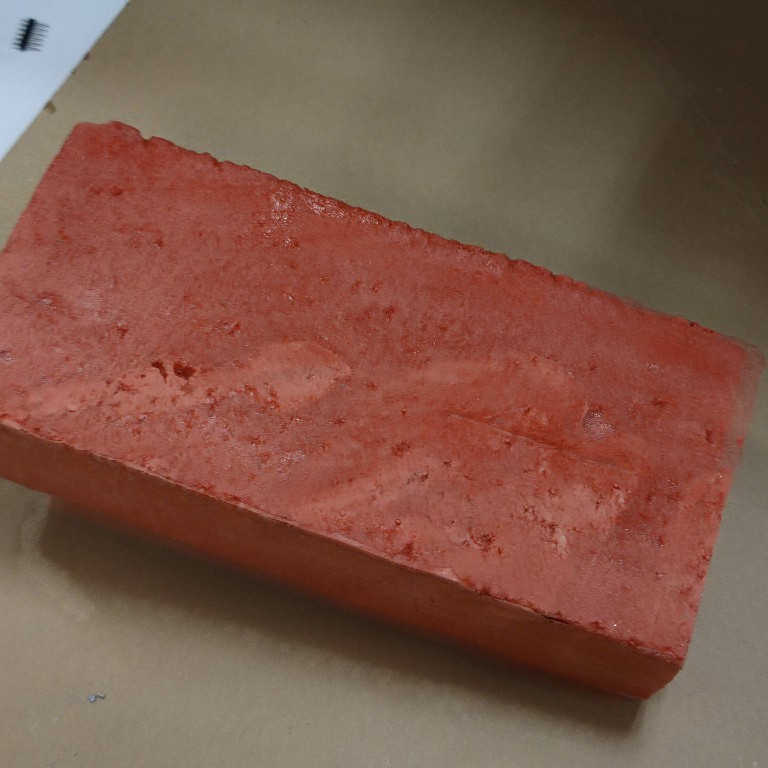brick: (1, 115, 767, 698)
